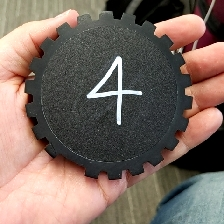gear: (22, 9, 195, 182)
missing: (45, 139, 100, 181)
